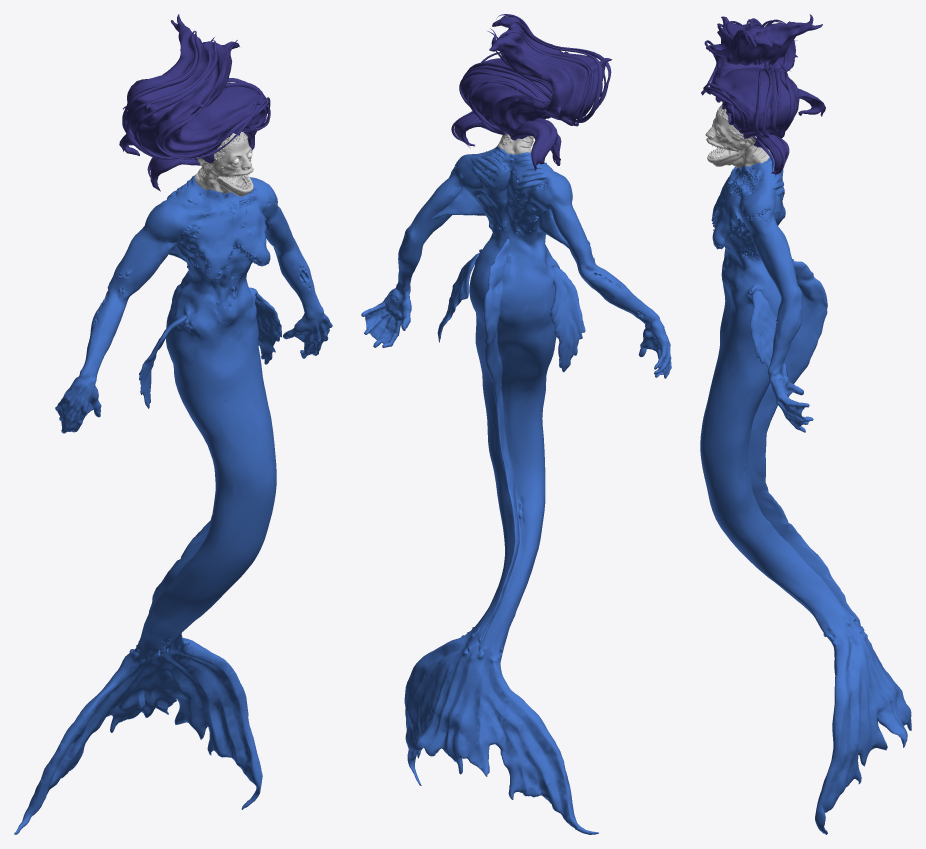
The model's file is mermaid.obj.
The picture shows the model from 3 angles, left to right: view 1: azimuth 30°, elevation 25°; view 2: azimuth 150°, elevation 25°; view 3: azimuth 270°, elevation 25°; orthographic projection. The views are drawn at different scales.
Visible parts, largest first — view 1: Body.007_Body.007, hair_hair, hair.001_hair.001, Fin.009_Fin.009, Head.001_Head.001; view 2: Body.007_Body.007, hair_hair, Fin.009_Fin.009, hair.001_hair.001; view 3: Body.007_Body.007, Fin.009_Fin.009, hair_hair, hair.001_hair.001, Head.001_Head.001.
Part boxes in pixels (box(x1,y1,x2,y2)): Body.007_Body.007: box(14, 175, 332, 834); hair_hair: box(119, 14, 267, 191); hair.001_hair.001: box(122, 30, 270, 184); Fin.009_Fin.009: box(139, 246, 281, 613); Head.001_Head.001: box(194, 132, 253, 196); Body.007_Body.007: box(361, 146, 671, 834); hair_hair: box(454, 16, 612, 170); Fin.009_Fin.009: box(429, 187, 585, 650); hair.001_hair.001: box(451, 14, 611, 164); Body.007_Body.007: box(700, 151, 911, 834); Fin.009_Fin.009: box(748, 199, 860, 626); hair_hair: box(709, 14, 825, 173); hair.001_hair.001: box(701, 18, 797, 175); Head.001_Head.001: box(705, 104, 770, 168).
Size of the model in its own units: 431 by 1135 by 276.
